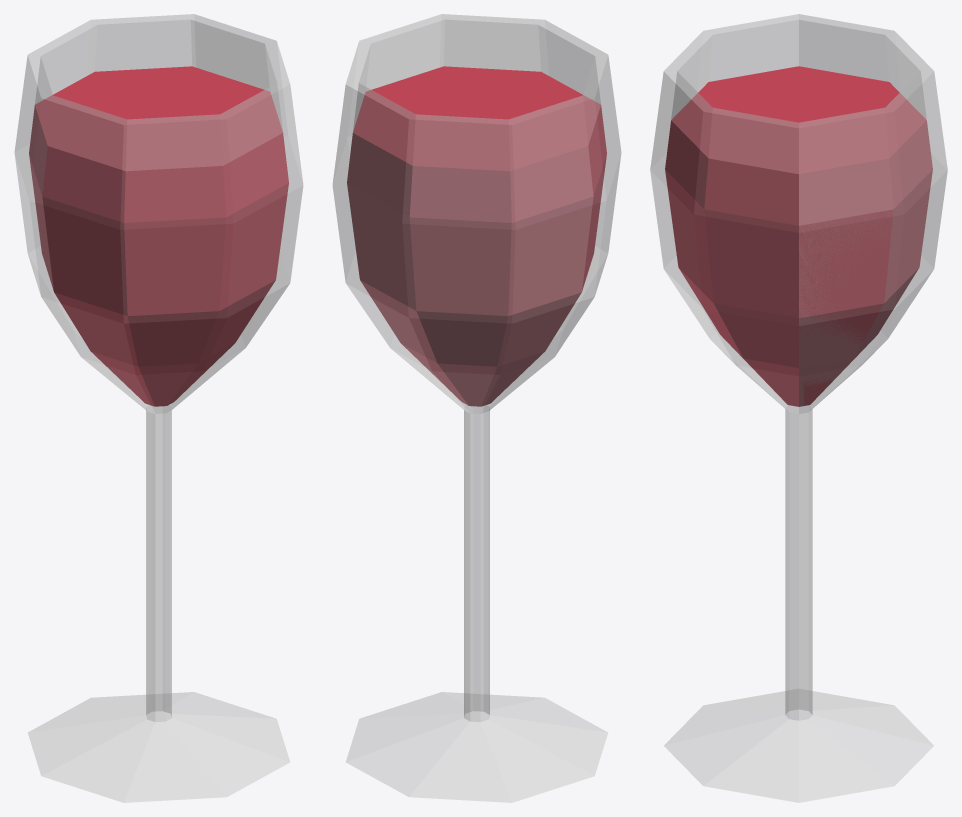
Rendered from Wine Glass.fbx.
3 views of the same model, side by side, from view 1: azimuth 30°, elevation 25°; view 2: azimuth 150°, elevation 25°; view 3: azimuth 270°, elevation 25° (orthographic).
Parts seen in each view (by area): view 1: Wine Glass, Wine Liquid 1, Wine Liquid 2, Wine Liquid 3, Wine Liquid 4; view 2: Wine Glass, Wine Liquid 1, Wine Liquid 2, Wine Liquid 3, Wine Liquid 4; view 3: Wine Glass, Wine Liquid 1, Wine Liquid 2, Wine Liquid 3, Wine Liquid 4.
Part boxes in pixels (<box>): Wine Glass: <box>14,14,303,802</box>; Wine Liquid 1: <box>29,66,288,406</box>; Wine Liquid 2: <box>124,183,288,315</box>; Wine Liquid 3: <box>128,283,271,362</box>; Wine Liquid 4: <box>167,343,234,405</box>; Wine Glass: <box>332,14,621,802</box>; Wine Liquid 1: <box>347,66,606,406</box>; Wine Liquid 2: <box>347,183,510,312</box>; Wine Liquid 3: <box>360,280,492,362</box>; Wine Liquid 4: <box>402,344,468,405</box>; Wine Glass: <box>650,14,947,802</box>; Wine Liquid 1: <box>665,66,932,225</box>; Wine Liquid 2: <box>665,169,932,318</box>; Wine Liquid 3: <box>679,268,918,367</box>; Wine Liquid 4: <box>722,337,866,406</box>.
Size of the model in its own units: 44 by 110 by 44.
